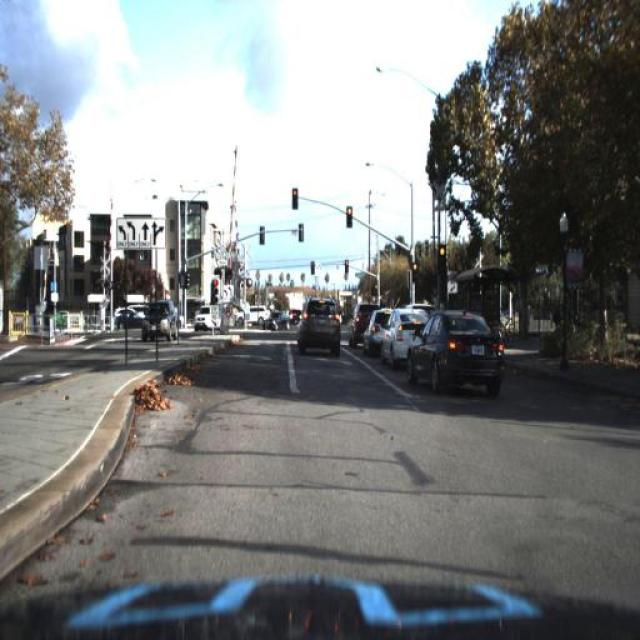car: (407, 302, 509, 392), (378, 307, 429, 369), (294, 293, 340, 357), (348, 294, 378, 354), (363, 301, 392, 357), (382, 310, 407, 370), (141, 300, 178, 340), (231, 300, 270, 326), (192, 307, 224, 337), (264, 306, 294, 338), (348, 299, 366, 352), (192, 304, 222, 332), (367, 309, 382, 359), (266, 304, 290, 332), (289, 308, 303, 328)
trafficLight: (630, 302, 640, 352)
trafficLight-RedLeft: (208, 274, 224, 311), (436, 243, 450, 281), (408, 252, 421, 286), (344, 200, 357, 230), (209, 269, 220, 303), (344, 200, 356, 228), (306, 252, 318, 278), (410, 252, 420, 280), (288, 184, 300, 207), (340, 256, 350, 282), (342, 254, 352, 280), (438, 239, 448, 261), (371, 276, 378, 296)
trafficLight-Yellow: (289, 186, 299, 212)
